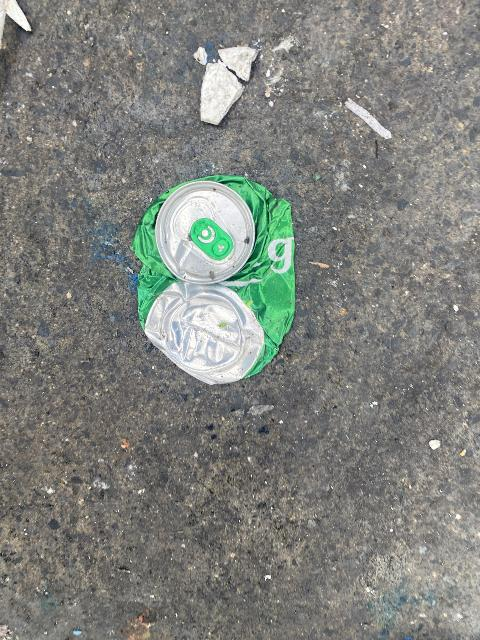Metal: (125, 165, 303, 387)
